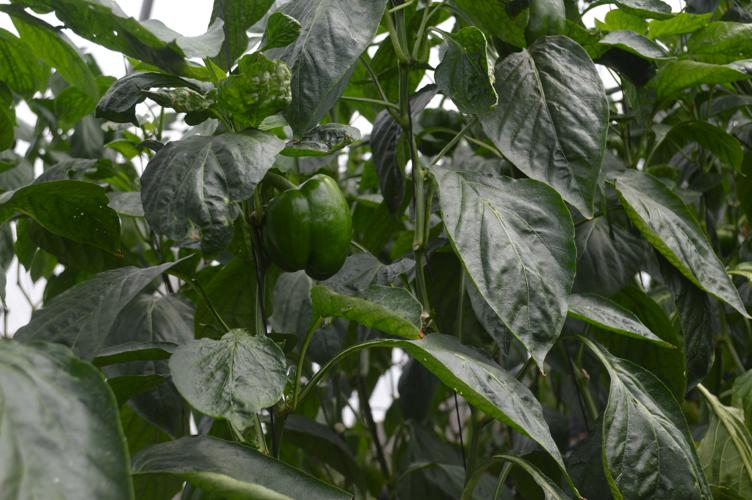BellPepper: (248, 173, 352, 284)
